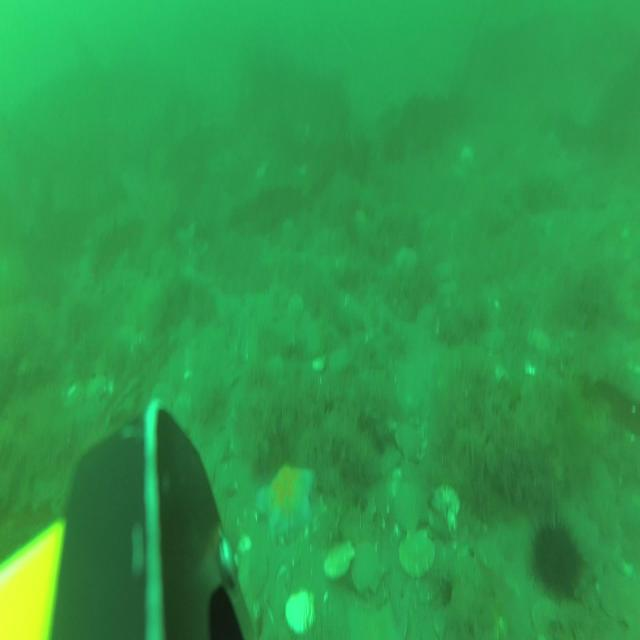echinus: (529, 494, 587, 600)
scallop: (594, 568, 634, 623), (397, 527, 437, 578), (392, 480, 428, 530), (429, 484, 459, 541), (352, 541, 382, 595), (285, 585, 316, 635), (324, 538, 356, 580), (394, 418, 422, 463), (526, 320, 550, 356), (482, 322, 507, 354), (286, 292, 306, 322)
starfish: (256, 458, 313, 542), (348, 599, 410, 639), (394, 242, 418, 275)
